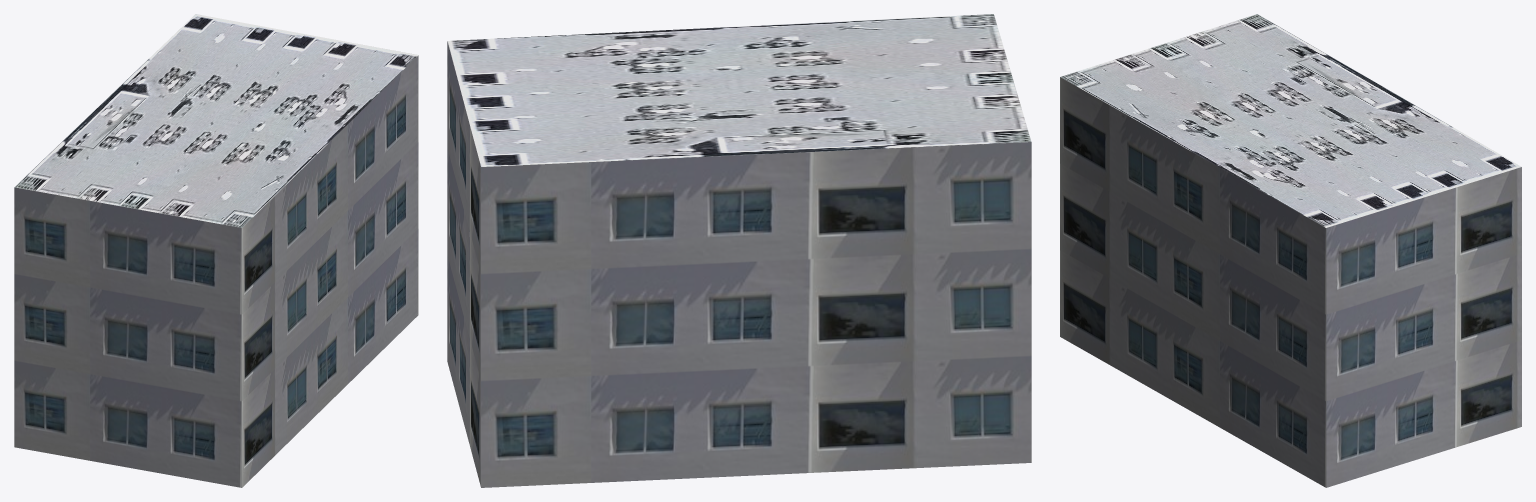
The model's file is ResTex__2370.fbx.
The picture shows the model from 3 angles, left to right: view 1: azimuth 30°, elevation 25°; view 2: azimuth 150°, elevation 25°; view 3: azimuth 270°, elevation 25°; orthographic projection. The views are drawn at different scales.
Visible parts, largest first — view 1: CityEngineMaterial_10_m, CityEngineMaterial_m; view 2: CityEngineMaterial_10_m, CityEngineMaterial_m; view 3: CityEngineMaterial_10_m, CityEngineMaterial_m.
Boxes of the visible parts, x1,y1,x2,y2 form: CityEngineMaterial_10_m: [14, 55, 418, 487]; CityEngineMaterial_m: [15, 14, 418, 227]; CityEngineMaterial_10_m: [447, 41, 1031, 487]; CityEngineMaterial_m: [447, 14, 1031, 166]; CityEngineMaterial_10_m: [1060, 77, 1521, 487]; CityEngineMaterial_m: [1060, 14, 1521, 227].
Bounding box in the file's own units: 15.9 × 9 × 14.49.
2 materials, 2 textured.
